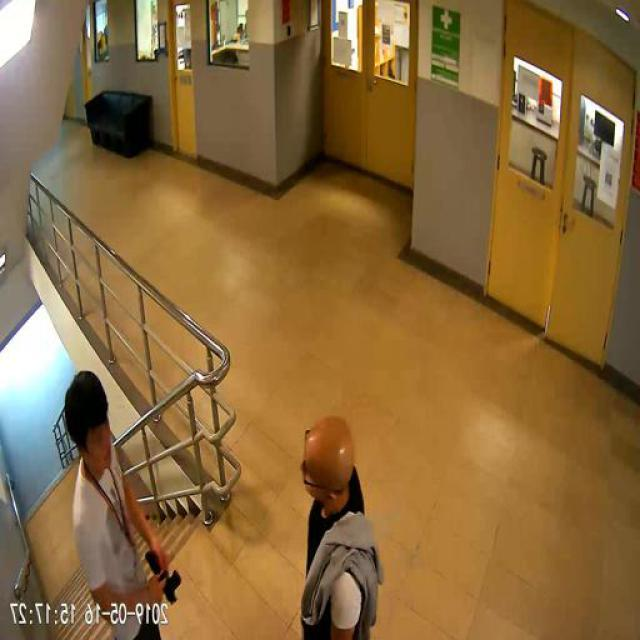Gun: (148, 550, 184, 602)
